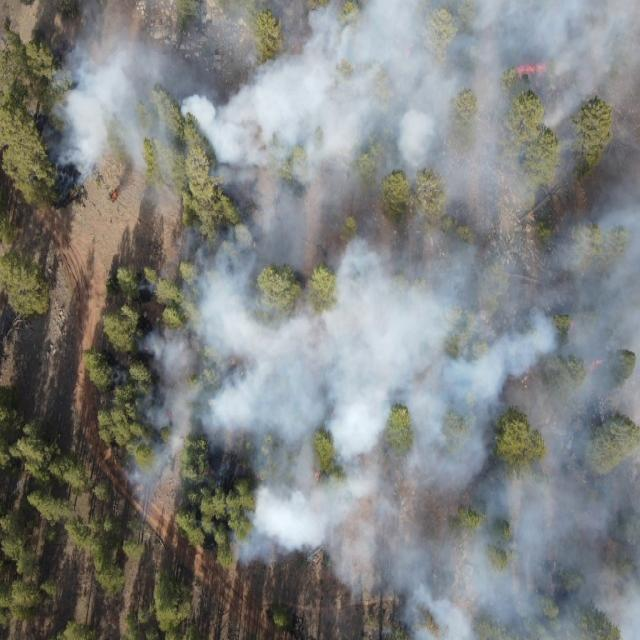fire: (514, 62, 552, 78), (585, 360, 606, 374), (310, 468, 322, 484), (568, 317, 578, 333), (110, 189, 120, 202), (251, 239, 258, 252), (143, 344, 151, 354), (166, 410, 173, 420)
smoke: (393, 184, 640, 640), (52, 0, 640, 184), (218, 183, 394, 562), (154, 223, 218, 455), (332, 560, 392, 600), (129, 454, 174, 490), (137, 388, 153, 433), (107, 367, 129, 388), (136, 332, 154, 357), (131, 280, 154, 296)
